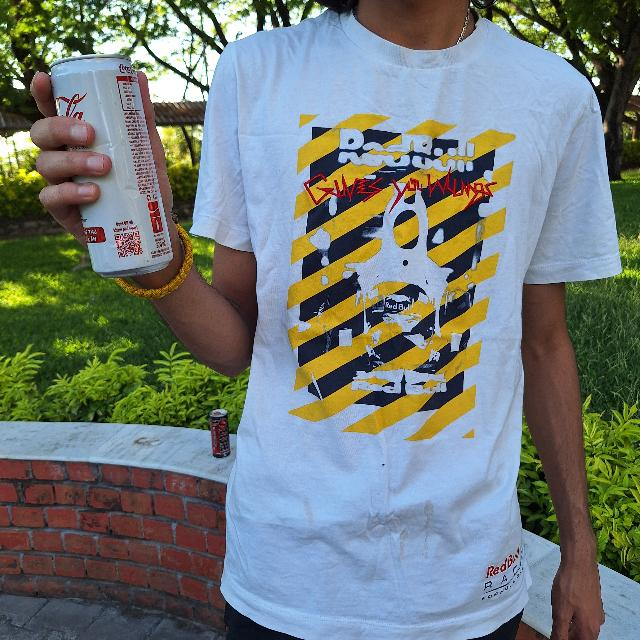Coca Cola Plus: (44, 56, 176, 272)
